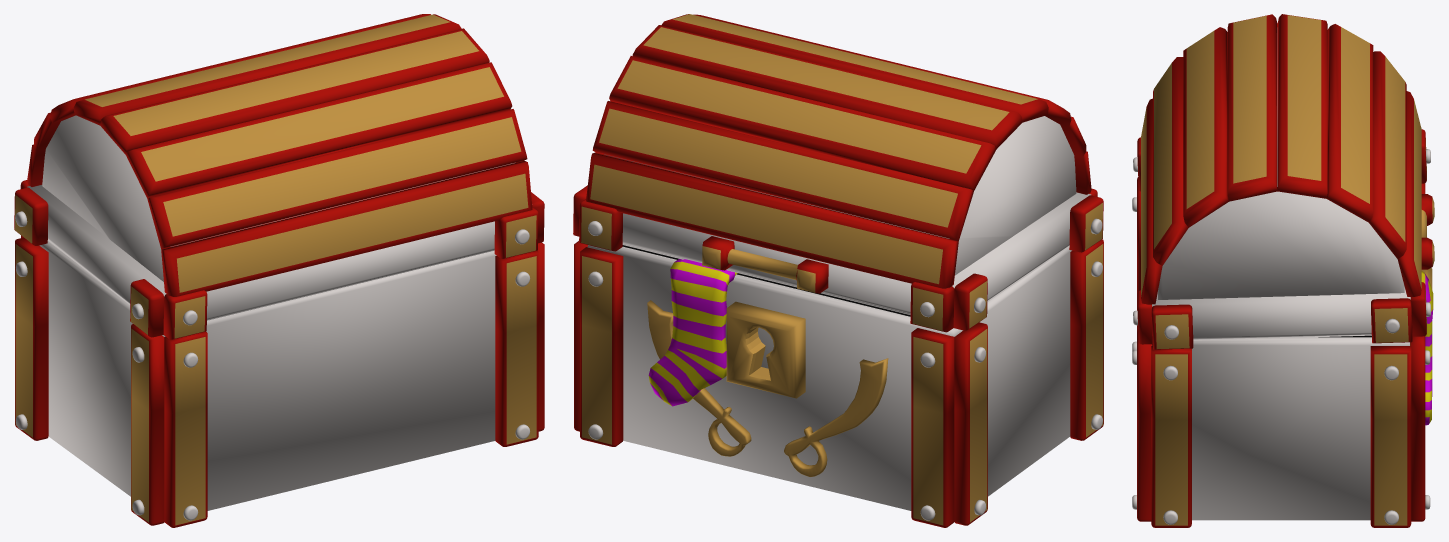
The model's file is Chest.fbx.
3 views of the same model, side by side, from view 1: azimuth 30°, elevation 25°; view 2: azimuth 150°, elevation 25°; view 3: azimuth 270°, elevation 25° (orthographic). The views are drawn at different scales.
Visible parts, largest first — view 1: Chest; view 2: Chest, Plane; view 3: Chest, Plane.
Boxes of the visible parts, x1,y1,x2,y2 form: Chest: (14, 14, 544, 527); Chest: (573, 14, 1103, 527); Plane: (648, 259, 737, 406); Chest: (1132, 14, 1434, 527); Plane: (1421, 271, 1433, 425).
Bounding box in the file's own units: 99.06 × 84.5 × 67.6.
